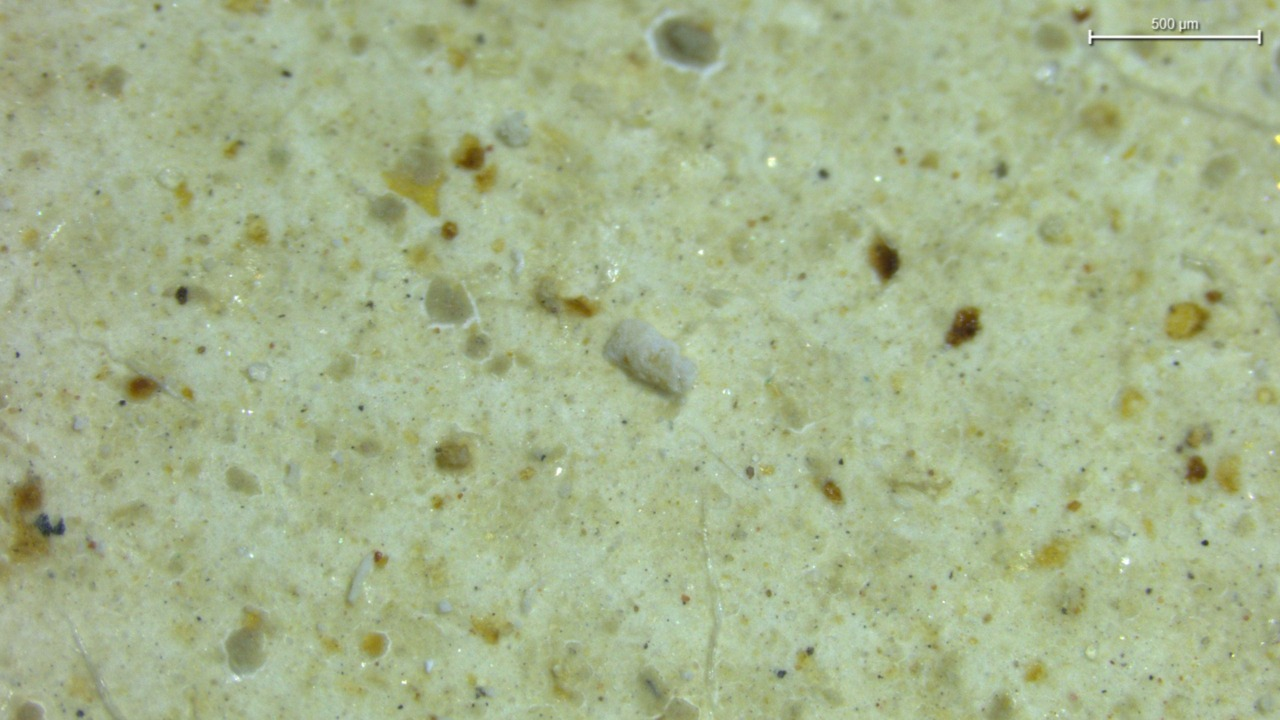microplastic_fragment: (604, 320, 697, 395)
